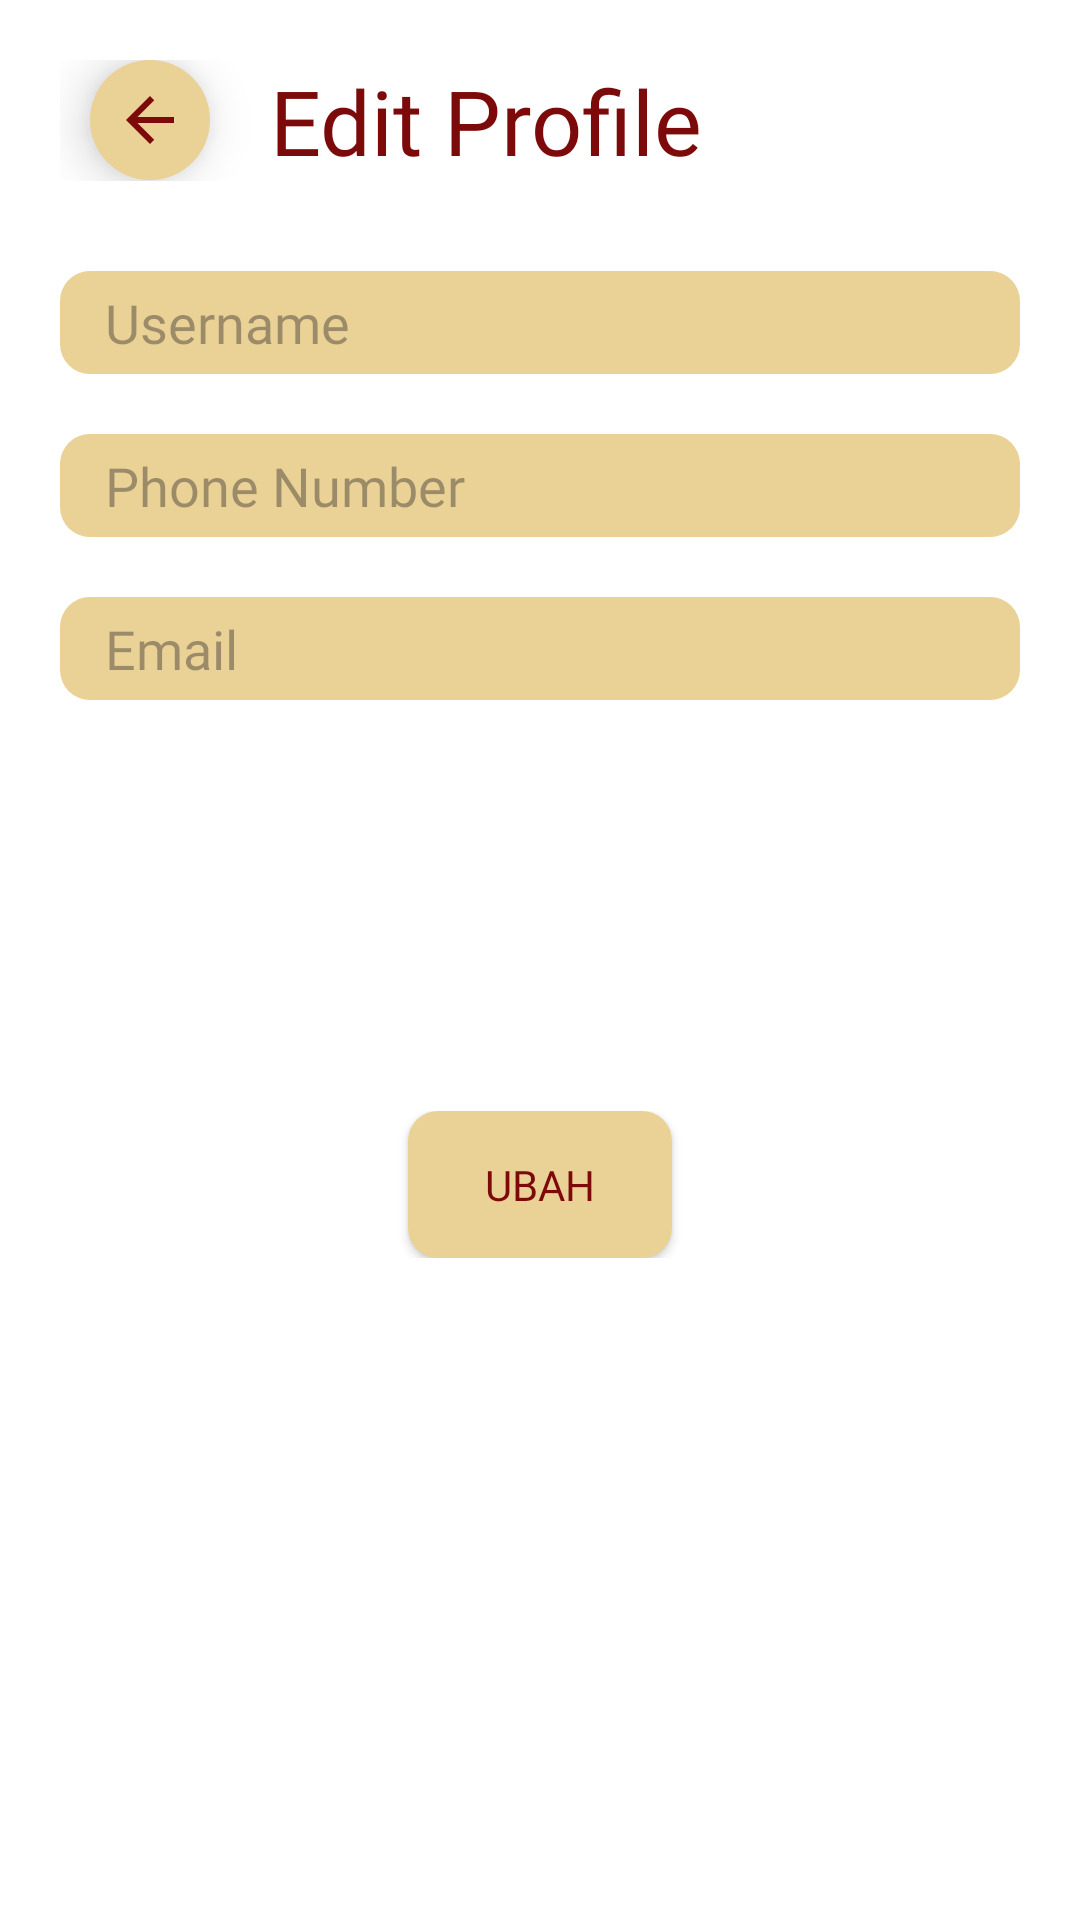

Icon click points for this 1080 x 1920 phone screenshot, format (x,y):
arrow back: (150,120)
